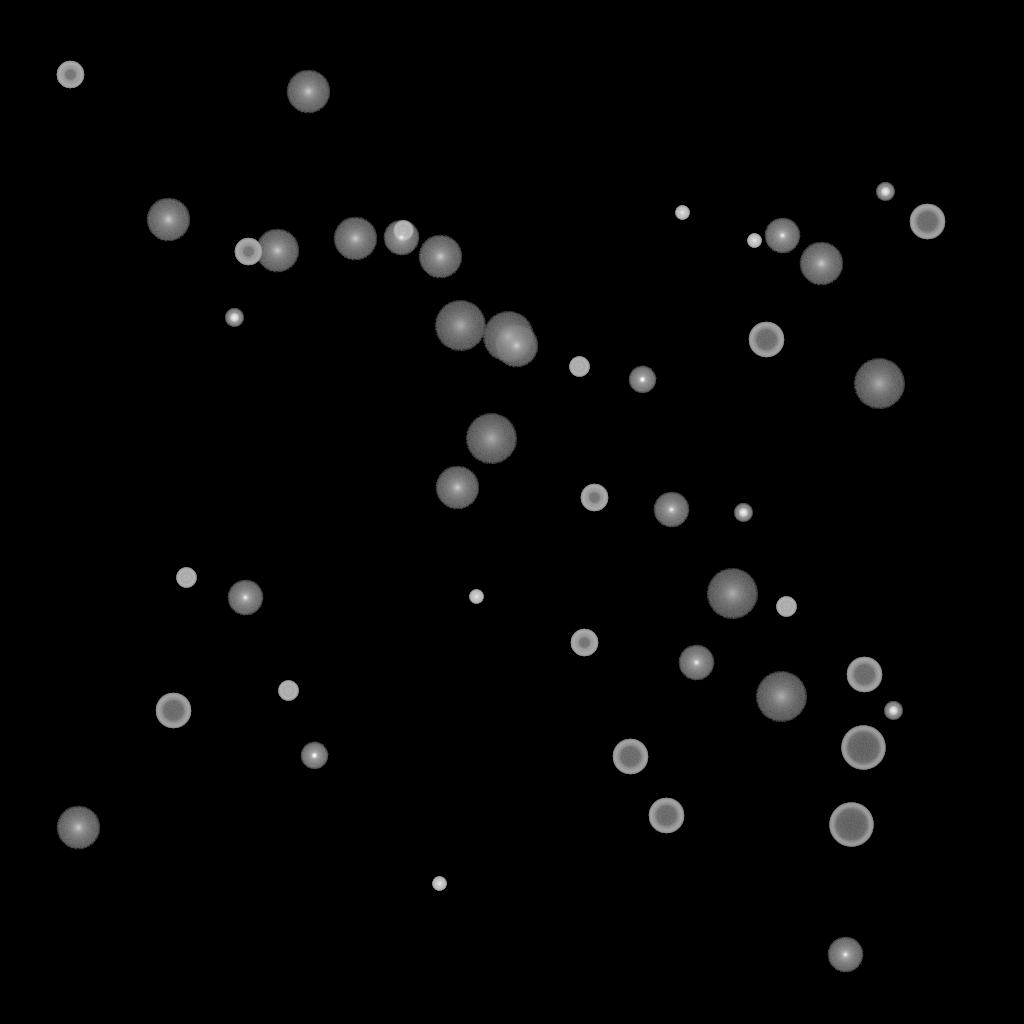depth:-10: (628, 366, 656, 394), (300, 742, 328, 770)
depth:-20: (876, 183, 894, 201), (734, 504, 752, 522), (225, 309, 243, 327), (884, 702, 902, 720)
depth:-30: (469, 590, 483, 604), (675, 206, 689, 220), (432, 877, 446, 891), (747, 234, 761, 248)
depth:-40: (776, 597, 796, 617), (278, 681, 298, 701), (176, 568, 196, 588), (569, 357, 589, 377), (393, 221, 413, 241)
depth:-50: (580, 484, 608, 512), (234, 238, 262, 266), (56, 61, 84, 89), (570, 629, 598, 657)
depth:-60: (155, 693, 191, 729), (748, 322, 784, 358), (909, 204, 945, 240), (846, 657, 882, 693), (648, 798, 684, 834), (612, 739, 648, 775)
depth:-70: (829, 803, 873, 847), (841, 726, 885, 770)
depth:0: (764, 218, 800, 254), (653, 492, 689, 528), (678, 645, 714, 681), (383, 220, 419, 256), (827, 937, 863, 973), (227, 580, 263, 616)
depth:10: (494, 324, 538, 368), (799, 242, 843, 286), (56, 806, 100, 850), (255, 229, 299, 273), (146, 198, 190, 242), (418, 235, 462, 279), (333, 217, 377, 261), (286, 70, 330, 114), (435, 466, 479, 510)
depth:20: (706, 569, 758, 619), (853, 359, 905, 409), (434, 301, 486, 351), (465, 414, 517, 464), (755, 672, 807, 722), (482, 312, 534, 362)
